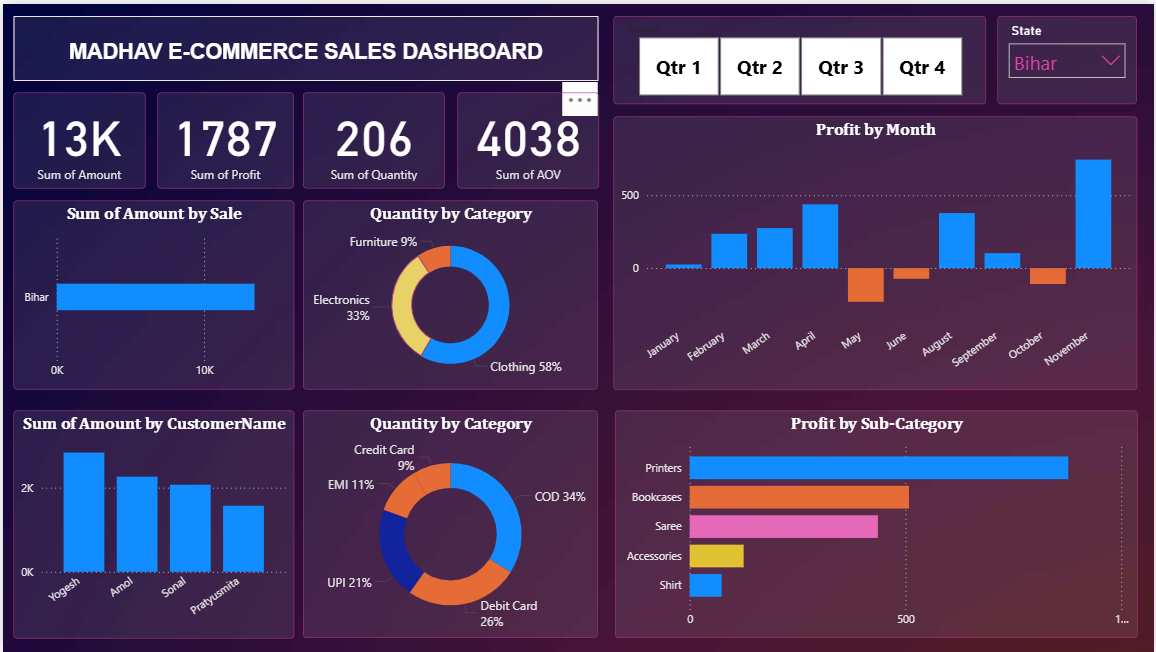

The page's visual inventory and layout, read from the dashboard file:
{"tool":"powerbi","page":{"name":"Page 1","canvas":[1280,720],"ordinal":0},"visuals":[{"type":"textbox","box":[11.3,13.2,650.1,71.8],"z":0},{"type":"columnChart","title":"Profit by Month","fields":{"Y":["Details.Profit"],"Category":["Orders.Order Date.Variation.Date Hierarchy.Month"]},"box":[678.4,124.7,582.1,304.3],"z":1},{"type":"barChart","title":"Profit by Sub-Category","fields":{"Category":["Details.Sub-Category"],"Y":["Details.Profit"]},"box":[679.2,451.7,580.6,252.9],"z":2},{"type":"donutChart","title":"Quantity by Category","fields":{"Category":["Details.Category"],"Y":["Details.Quantity"]},"box":[334,217.9,327.7,210],"z":3},{"type":"donutChart","title":"Quantity by Category","fields":{"Y":["Details.Quantity"],"Category":["Details.PaymentMode"]},"box":[334,451.7,327.7,252.9],"z":4},{"type":"card","fields":{"Values":["Details.Amount"]},"box":[11.1,98.6,146.3,106.6],"z":5},{"type":"card","fields":{"Values":["Details.Profit"]},"box":[171.8,98.6,151.1,106.6],"z":6},{"type":"card","fields":{"Values":["Details.Quantity"]},"box":[334,98.6,157.5,106.6],"z":7},{"type":"card","fields":{"Values":["Details.AOV"]},"box":[504.2,98.6,157.5,106.6],"z":8},{"type":"barChart","title":"Sum of Amount by Sale","fields":{"Category":["Orders.State"],"Y":["Details.Amount"]},"box":[11.1,217.9,311.8,210],"z":9},{"type":"columnChart","title":"Sum of Amount by CustomerName","fields":{"Category":["Orders.CustomerName"],"Y":["Details.Amount"]},"box":[11.3,451.7,311.8,253.2],"z":10},{"type":"slicer","fields":{"Values":["Orders.Order Date.Variation.Date Hierarchy.Quarter"]},"box":[678.4,13.2,413.9,98.3],"z":11},{"type":"slicer","fields":{"Values":["Orders.State"]},"box":[1105.5,13.2,155,98.3],"z":12}]}

Visuals, with their boxes in screenshot pixels (x1, y1, x2, y2), scaled from the page's 1280x720 canvas onto the 1156x652 screenshot:
textbox: locate(10, 12, 597, 77)
"Profit by Month" columnChart: locate(613, 113, 1138, 388)
"Profit by Sub-Category" barChart: locate(613, 409, 1138, 638)
"Quantity by Category" donutChart: locate(302, 197, 598, 387)
"Quantity by Category" donutChart: locate(302, 409, 598, 638)
card - Details.Amount: locate(10, 89, 142, 186)
card - Details.Profit: locate(155, 89, 292, 186)
card - Details.Quantity: locate(302, 89, 444, 186)
card - Details.AOV: locate(455, 89, 598, 186)
"Sum of Amount by Sale" barChart: locate(10, 197, 292, 387)
"Sum of Amount by CustomerName" columnChart: locate(10, 409, 292, 638)
slicer - Orders.Order Date.Variation.Date Hierarchy.Quarter: locate(613, 12, 986, 101)
slicer - Orders.State: locate(998, 12, 1138, 101)
